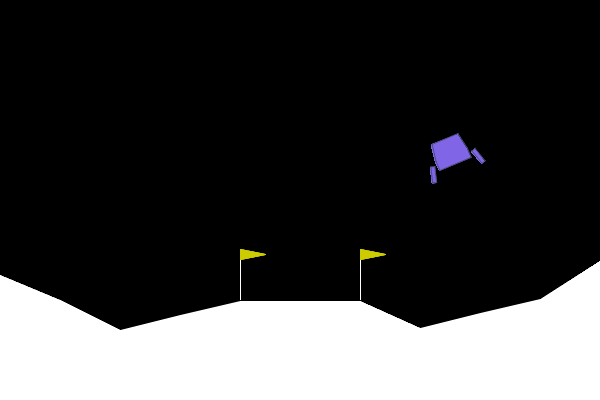lander: (416, 126, 487, 186)
